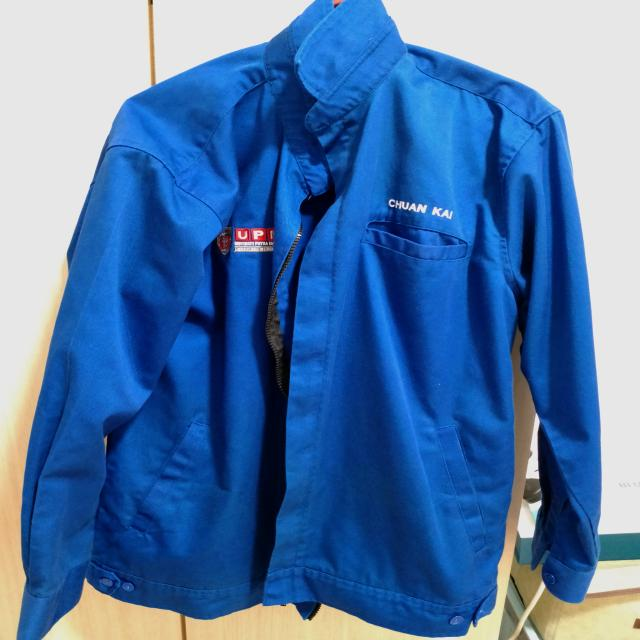person_without_labcoat: (16, 0, 600, 640)
